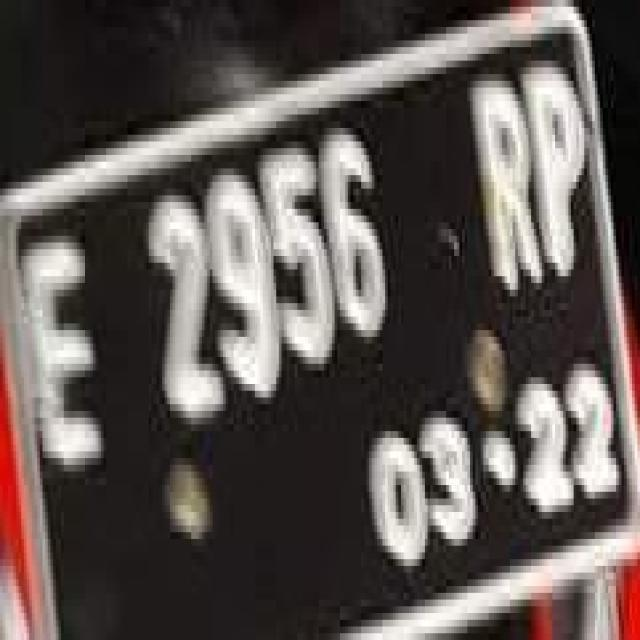2: (139, 175, 231, 444)
5: (257, 120, 344, 386)
6: (312, 98, 397, 367)
9: (199, 145, 288, 411)
E: (17, 213, 112, 509)
P: (517, 36, 599, 292)
R: (467, 67, 550, 307)
